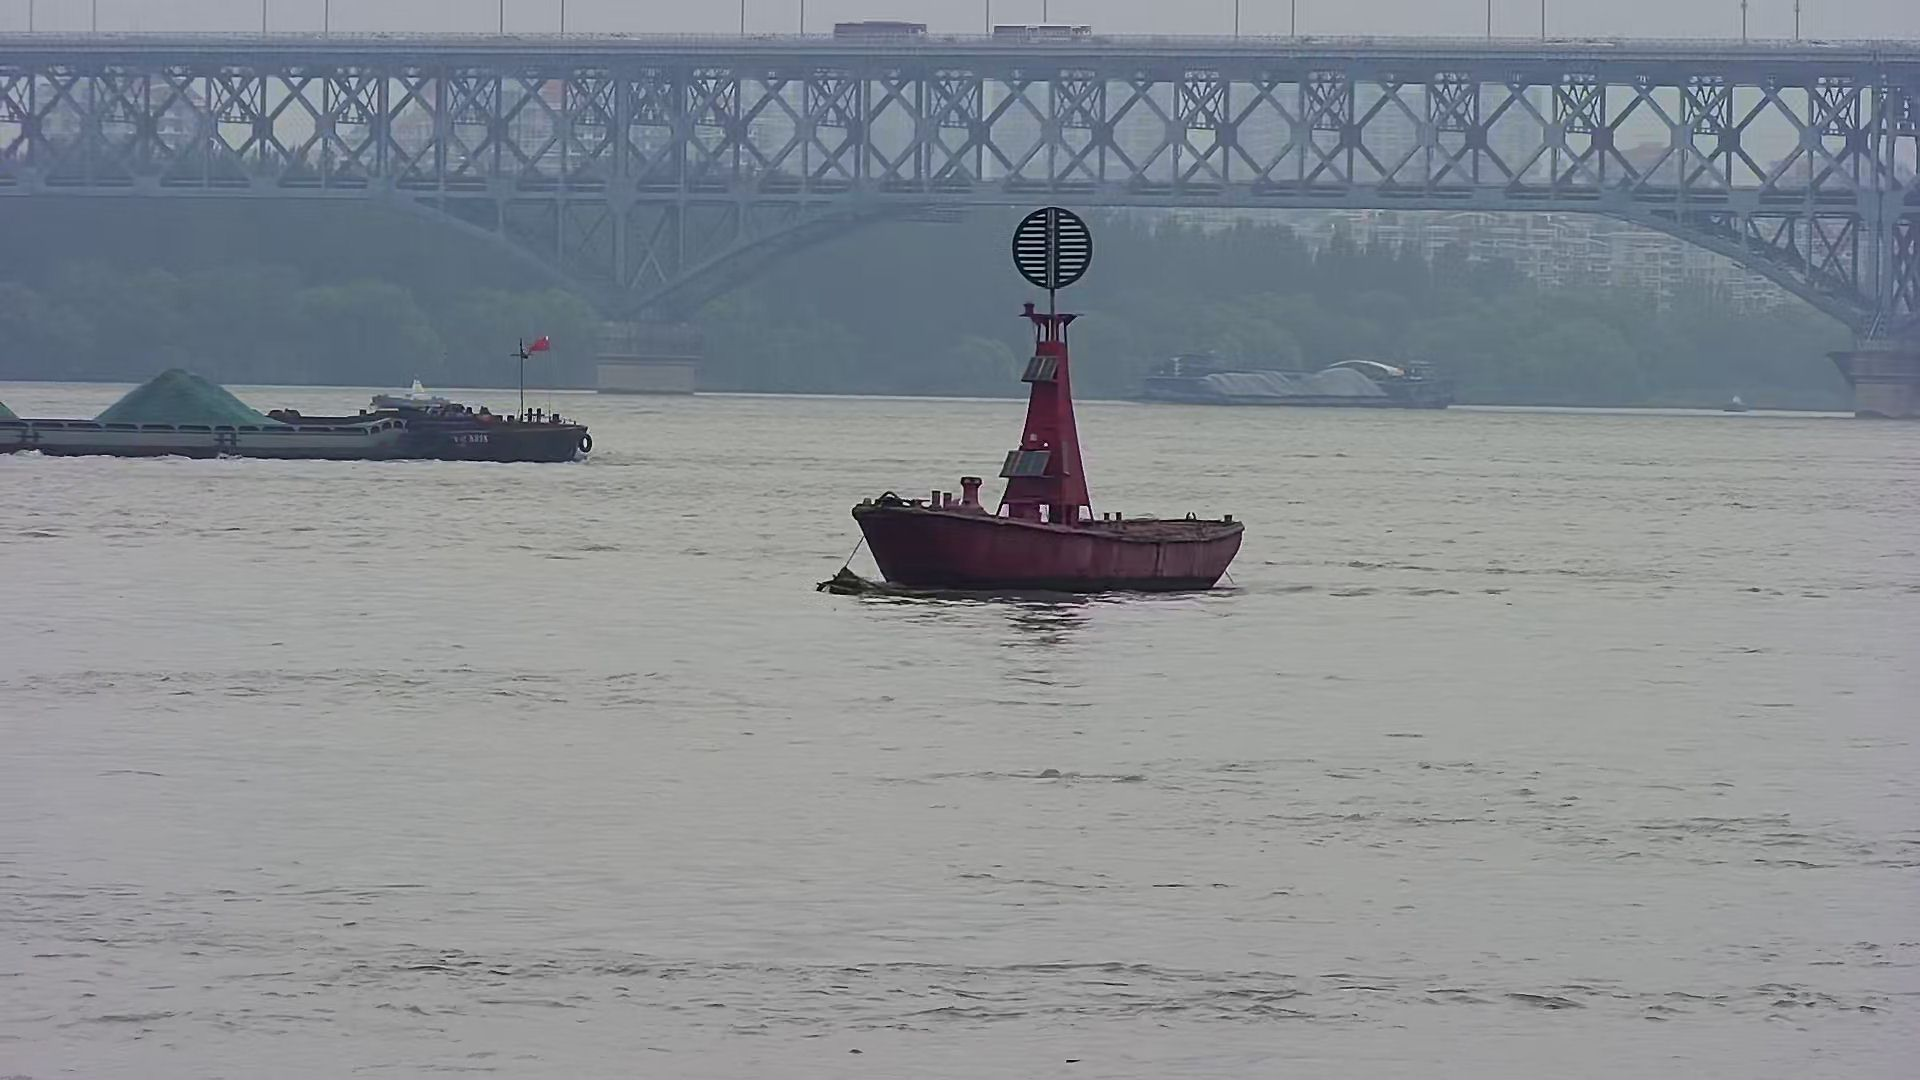boat: (829, 203, 1263, 605), (1716, 386, 1767, 421)
bridge: (1, 17, 1920, 425)
ship: (1, 334, 597, 472), (1127, 335, 1472, 418)
